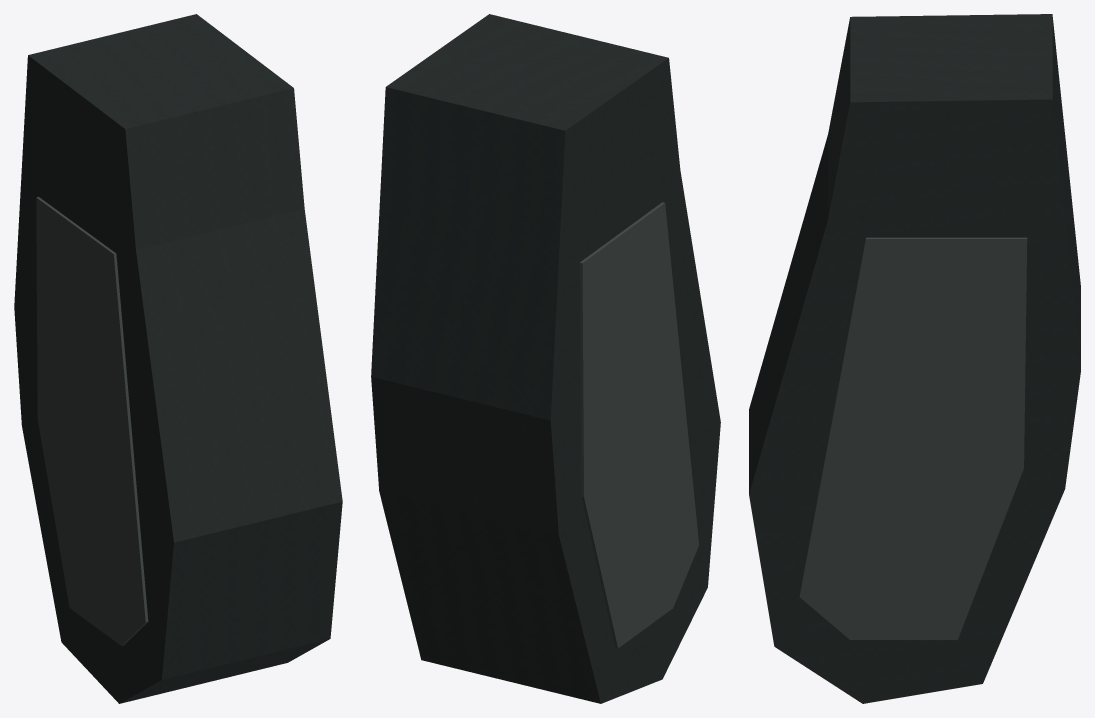
The model's file is ak_ergo.glb.
3 views of the same model, side by side, from view 1: azimuth 30°, elevation 25°; view 2: azimuth 150°, elevation 25°; view 3: azimuth 270°, elevation 25° (orthographic). The views are drawn at different scales.
Visible parts, largest first — view 1: ak_ergo_contoured_grip, ak_ergo_contoured_grip.001, ak_ergo_grip_panel; view 2: ak_ergo_contoured_grip, ak_ergo_contoured_grip.001, ak_ergo_grip_panel; view 3: ak_ergo_contoured_grip, ak_ergo_grip_panel, ak_ergo_contoured_grip.001.
Part boxes in pixels (left/top/right/bottom): ak_ergo_contoured_grip: left=16, top=33, right=337, bottom=700; ak_ergo_contoured_grip.001: left=14, top=14, right=342, bottom=703; ak_ergo_grip_panel: left=36, top=197, right=148, bottom=645; ak_ergo_contoured_grip: left=376, top=17, right=718, bottom=697; ak_ergo_contoured_grip.001: left=371, top=14, right=720, bottom=703; ak_ergo_grip_panel: left=579, top=202, right=698, bottom=648; ak_ergo_contoured_grip: left=749, top=17, right=1080, bottom=685; ak_ergo_grip_panel: left=799, top=237, right=1027, bottom=639; ak_ergo_contoured_grip.001: left=749, top=14, right=1080, bottom=703.
Size of the model in its own units: 0.067 by 0.211 by 0.105.
Materials: 2 (1 with a texture image).
